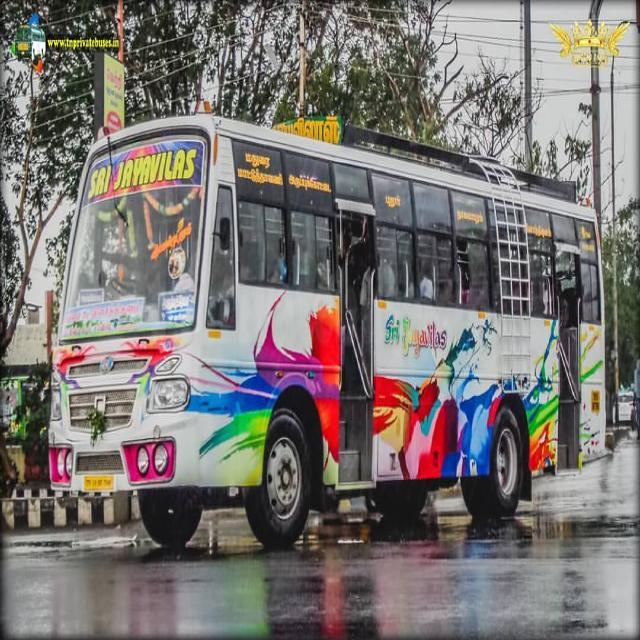Bus: (46, 98, 605, 548)
